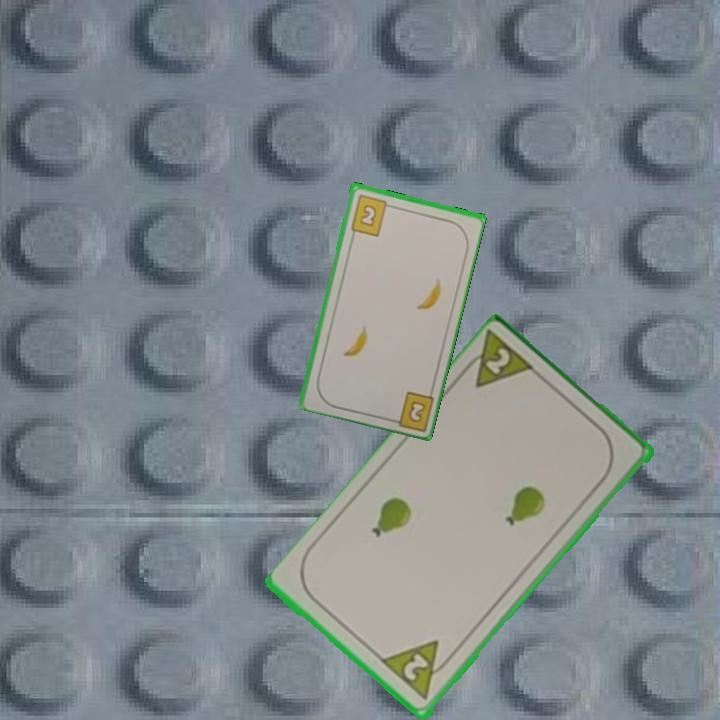2b: (385, 387, 436, 432), (347, 191, 395, 238)
2p: (455, 328, 540, 392), (379, 636, 458, 704)
